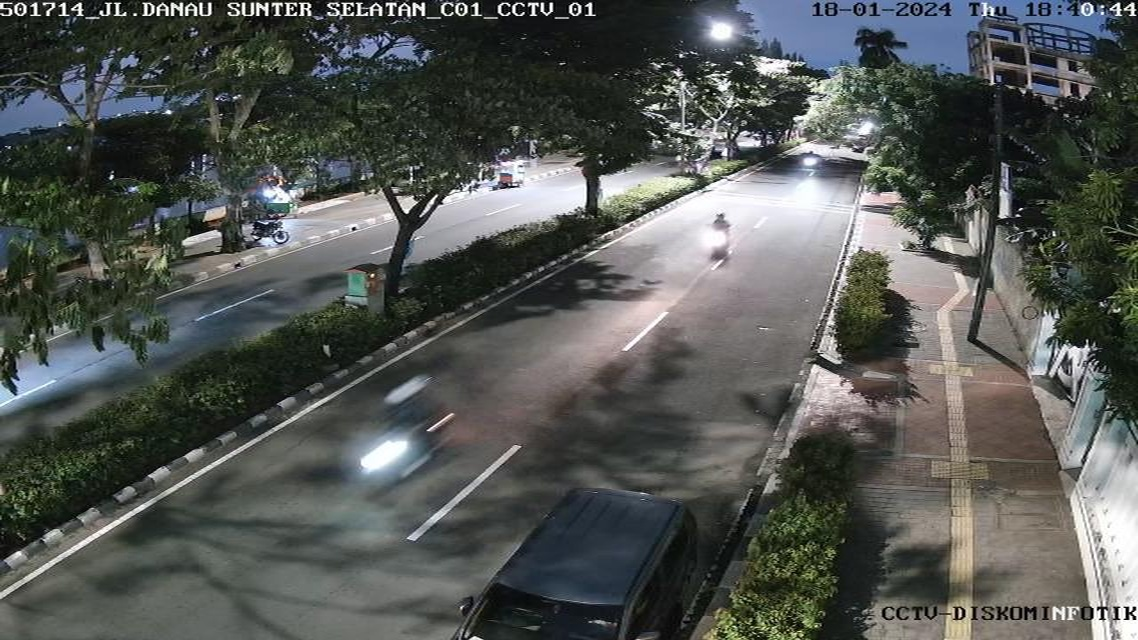Gerobak: (265, 179, 313, 220), (494, 155, 528, 188)
